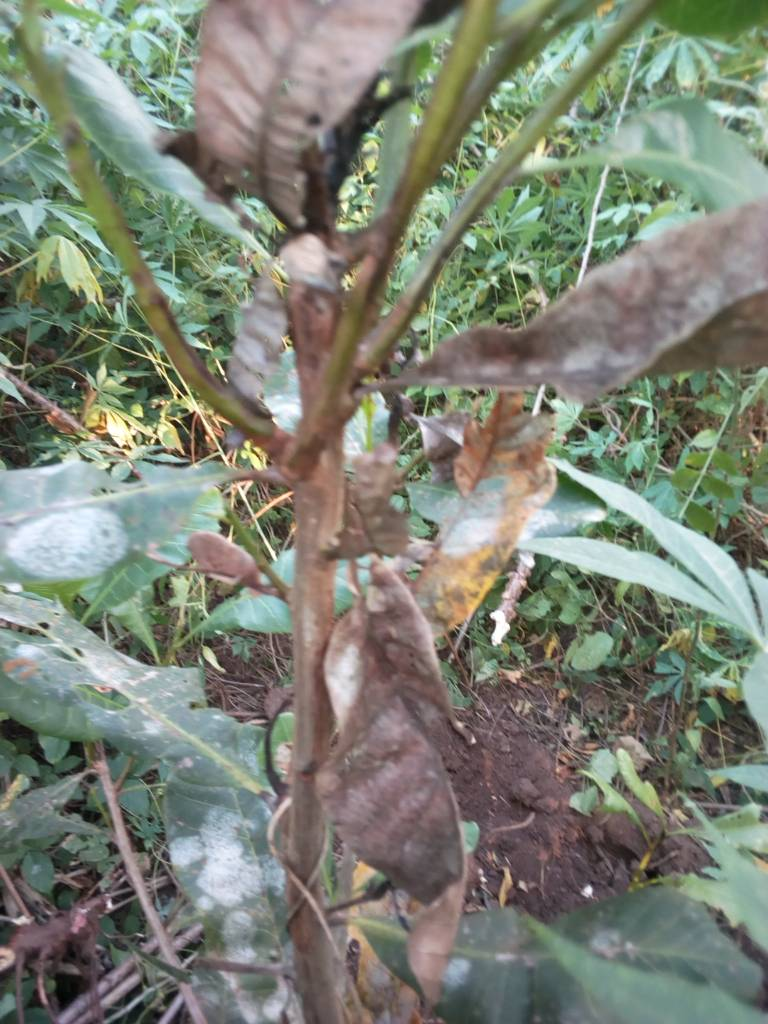Dessèchement des bourgeons: (297, 78, 401, 213)
